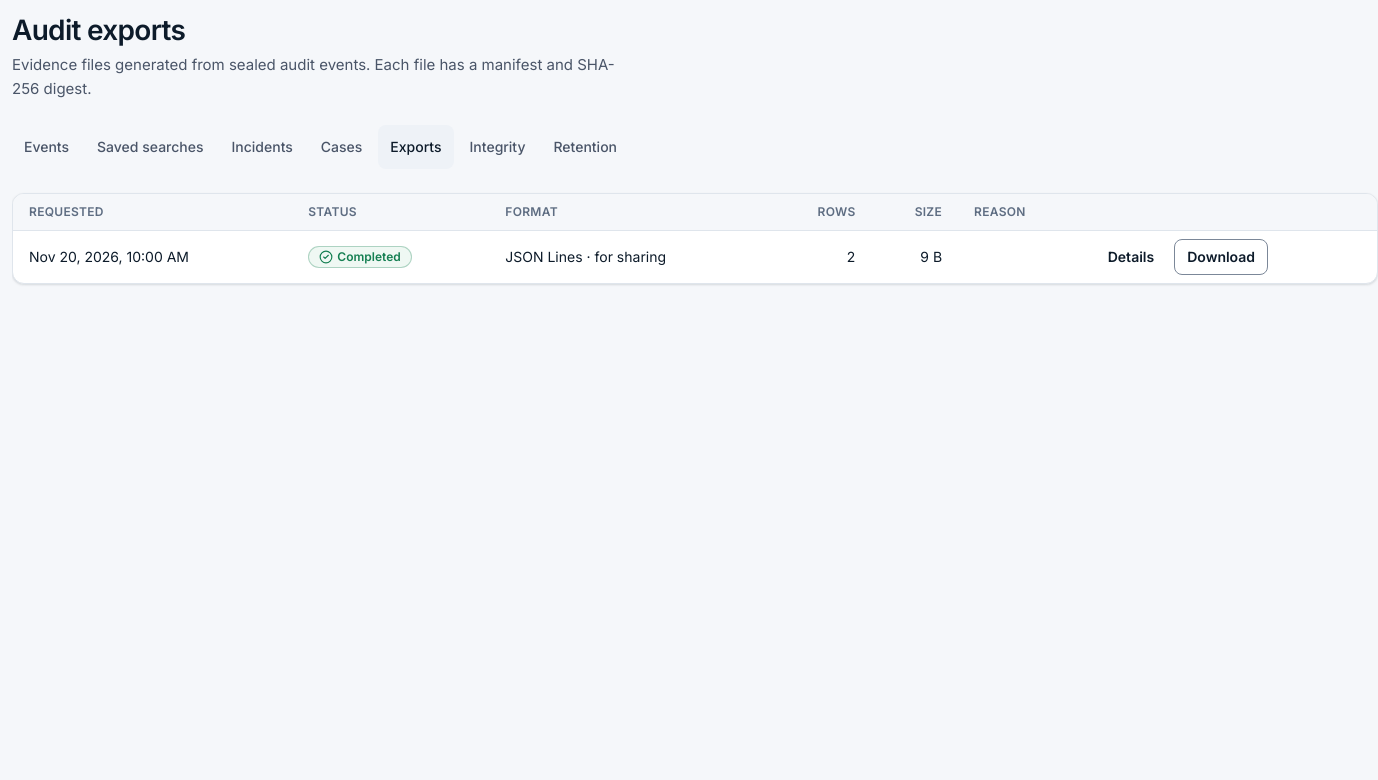
Scenario: exports and retention pages › refuses a download whose size does not match the manifest
Step 1. Click the button with aria-label "Download export" → (1221, 257), box [1174,239,1268,275]
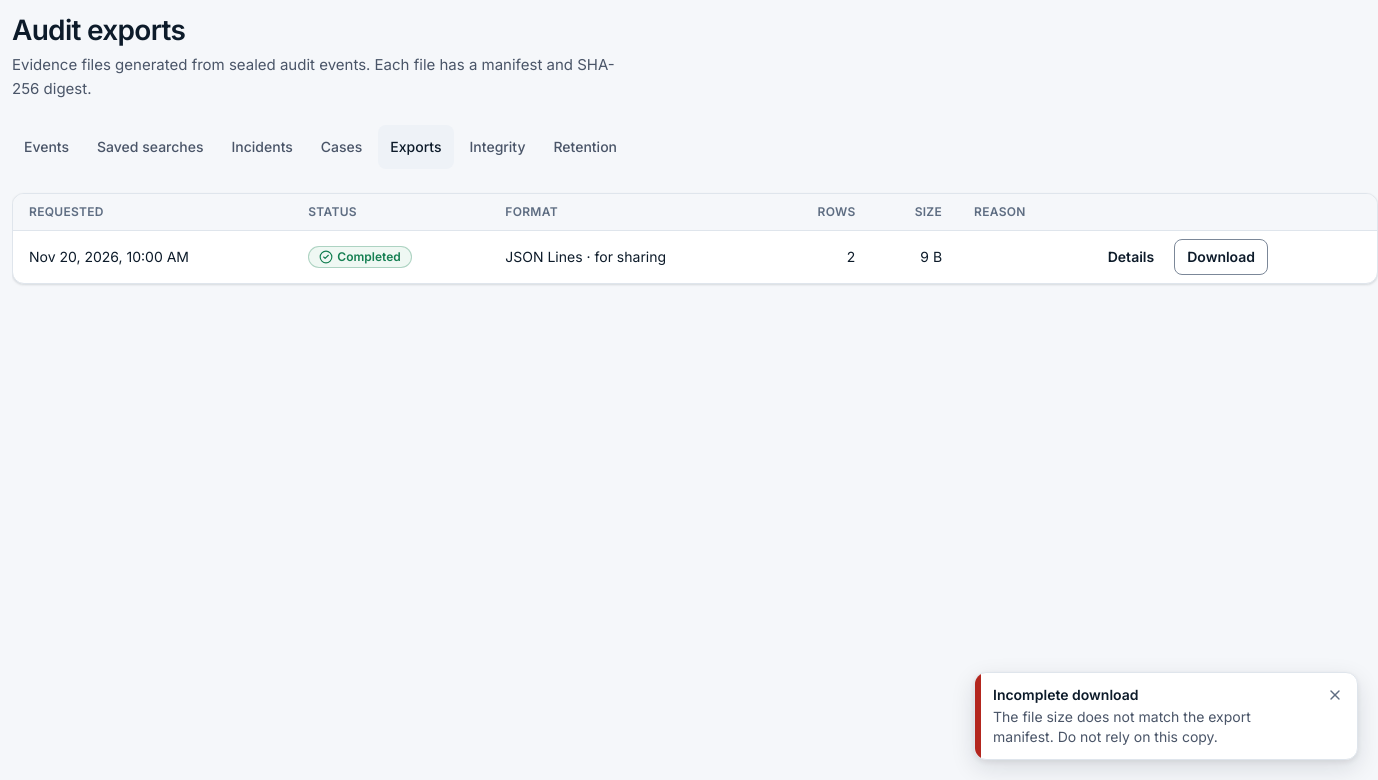
Expected: the text "Incomplete download" is shown, [992,685,1138,703]
